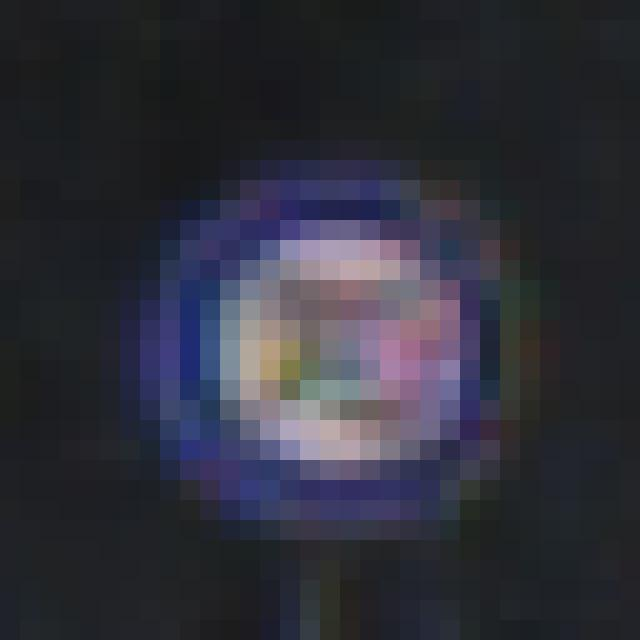SPEED LIMIT 70: (149, 165, 525, 556)
